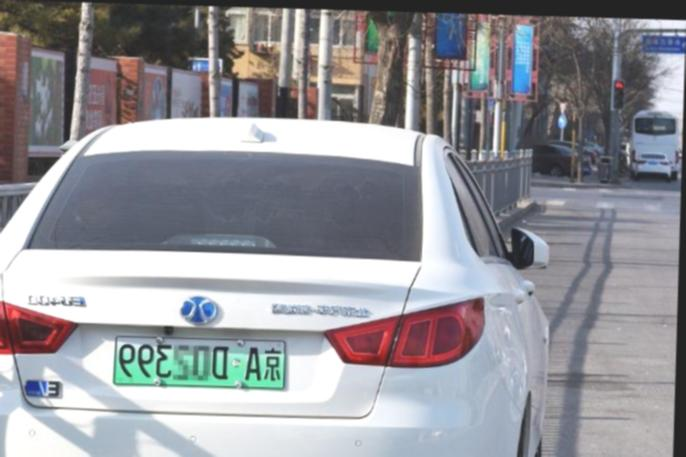License_Plate: (115, 334, 285, 391)
